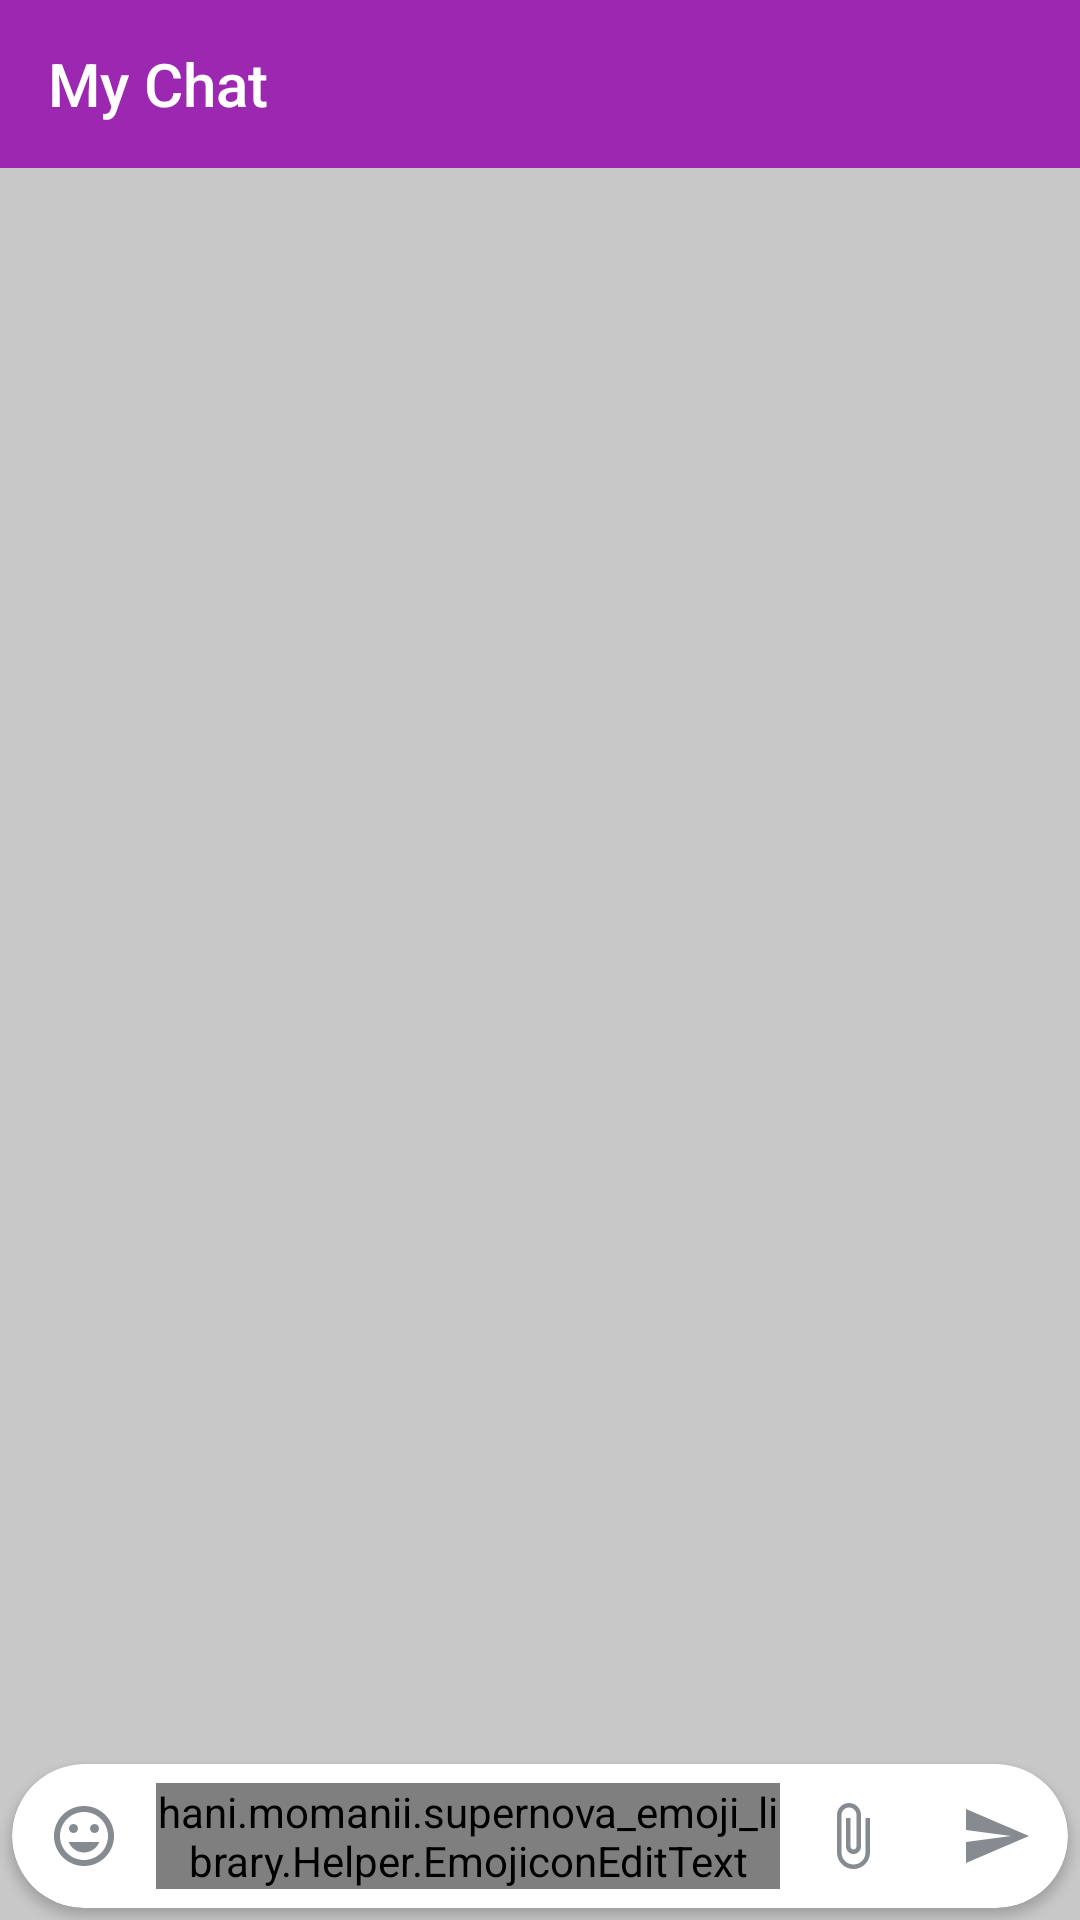

Named icons in this screenshot (1080×1920) and their centers, [x,y]:
SEND: [996,1836]
Send Image: [853,1836]
